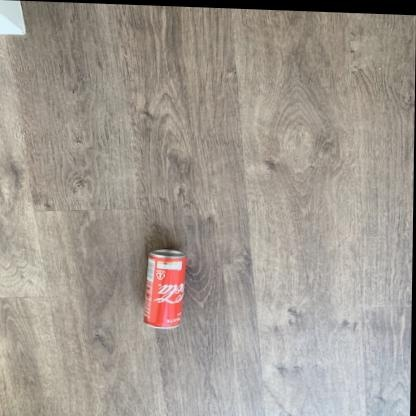trash: (144, 249, 186, 327)
